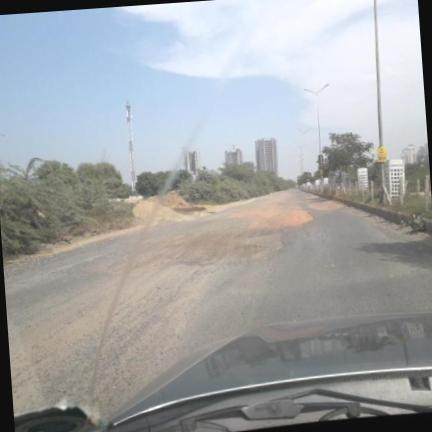Road: (4, 191, 431, 416)
